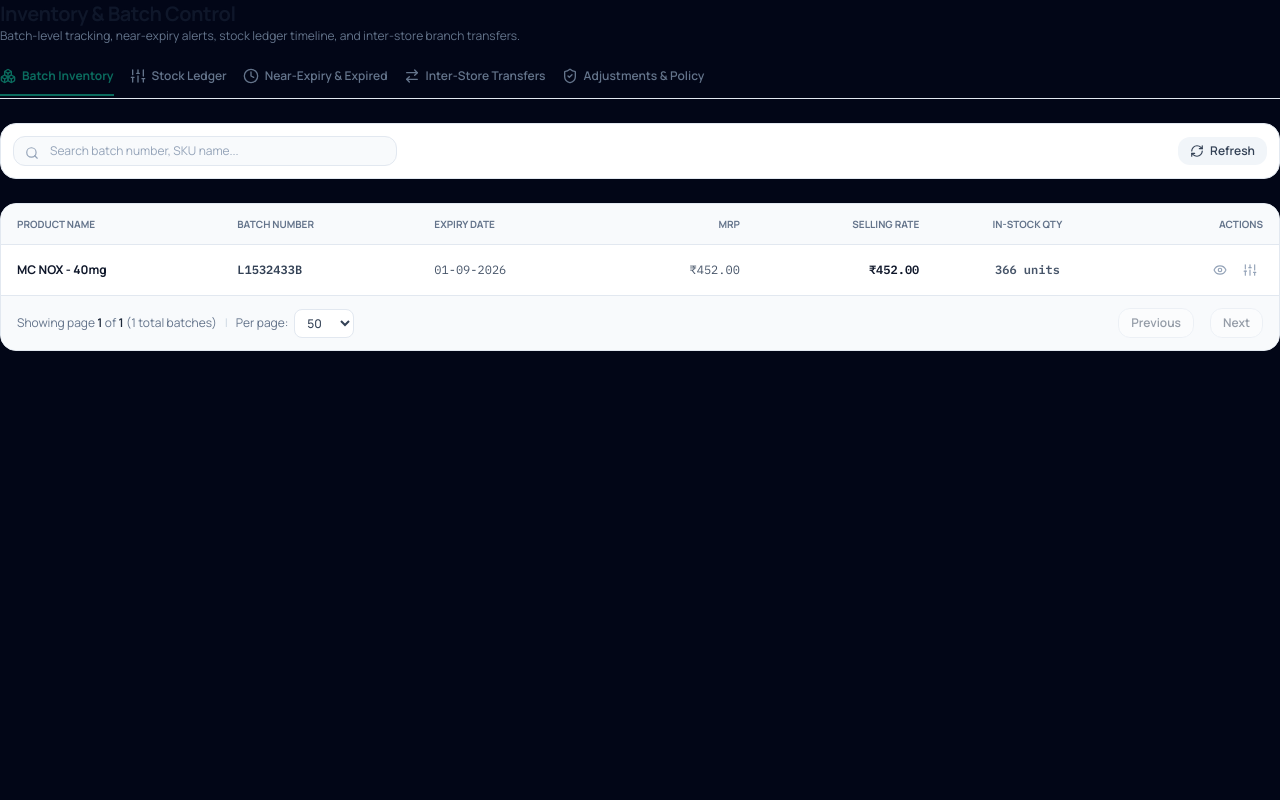
Test: Inventory row actions › shows the lines of a pending adjustment before approving it
This screenshot has width=1280, height=800.
Click the button "Adjustments & Policy" at coordinates (633, 82), box [562,68,704,96]
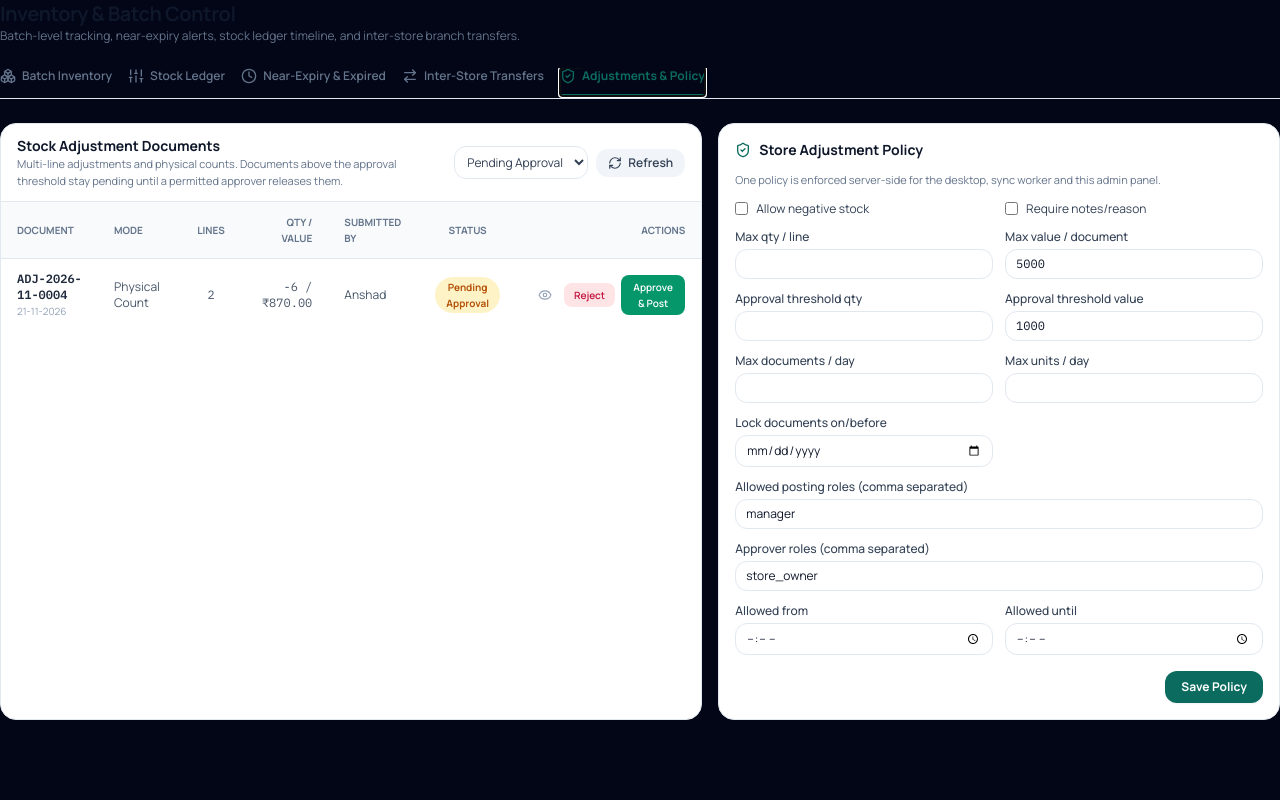
Click the button titled "View adjustment lines" at coordinates (545, 295), box [532,282,558,308]
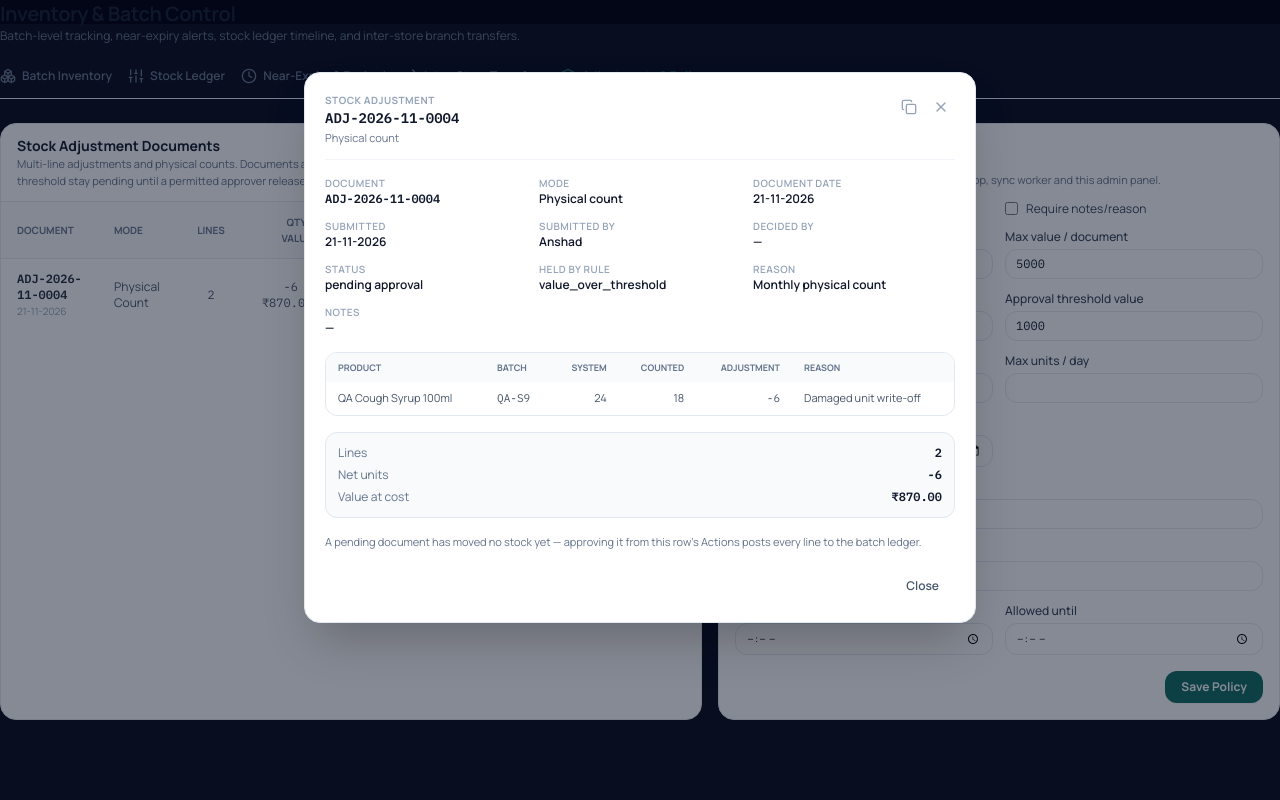
Expected: the text "Damaged unit write-off" is shown, [792,382,954,414]
Expected: the text "moved no stock yet" is shown, [325,534,922,548]
